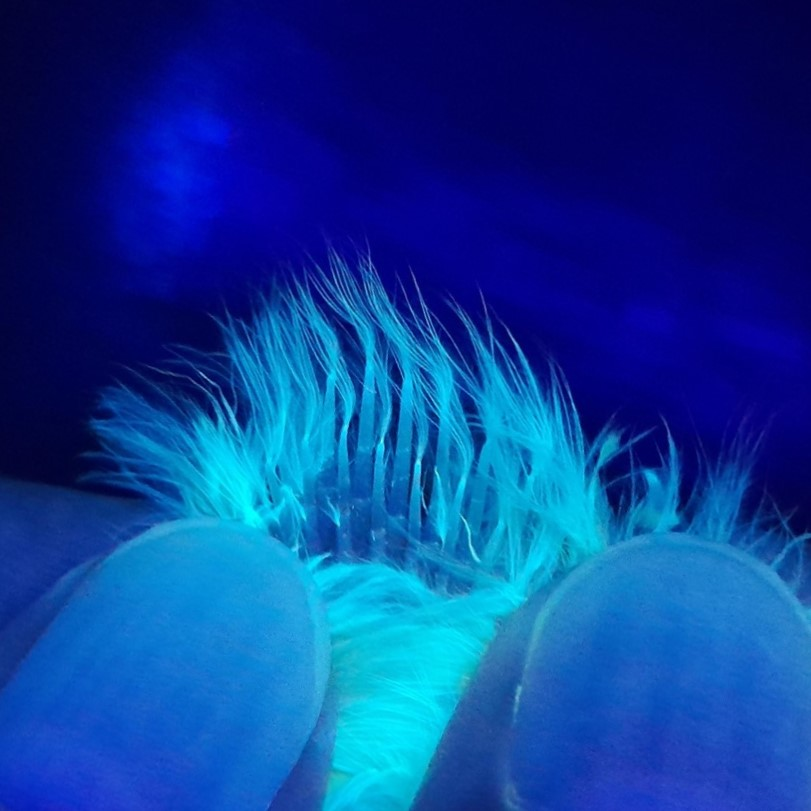female: (276, 338, 554, 592)
